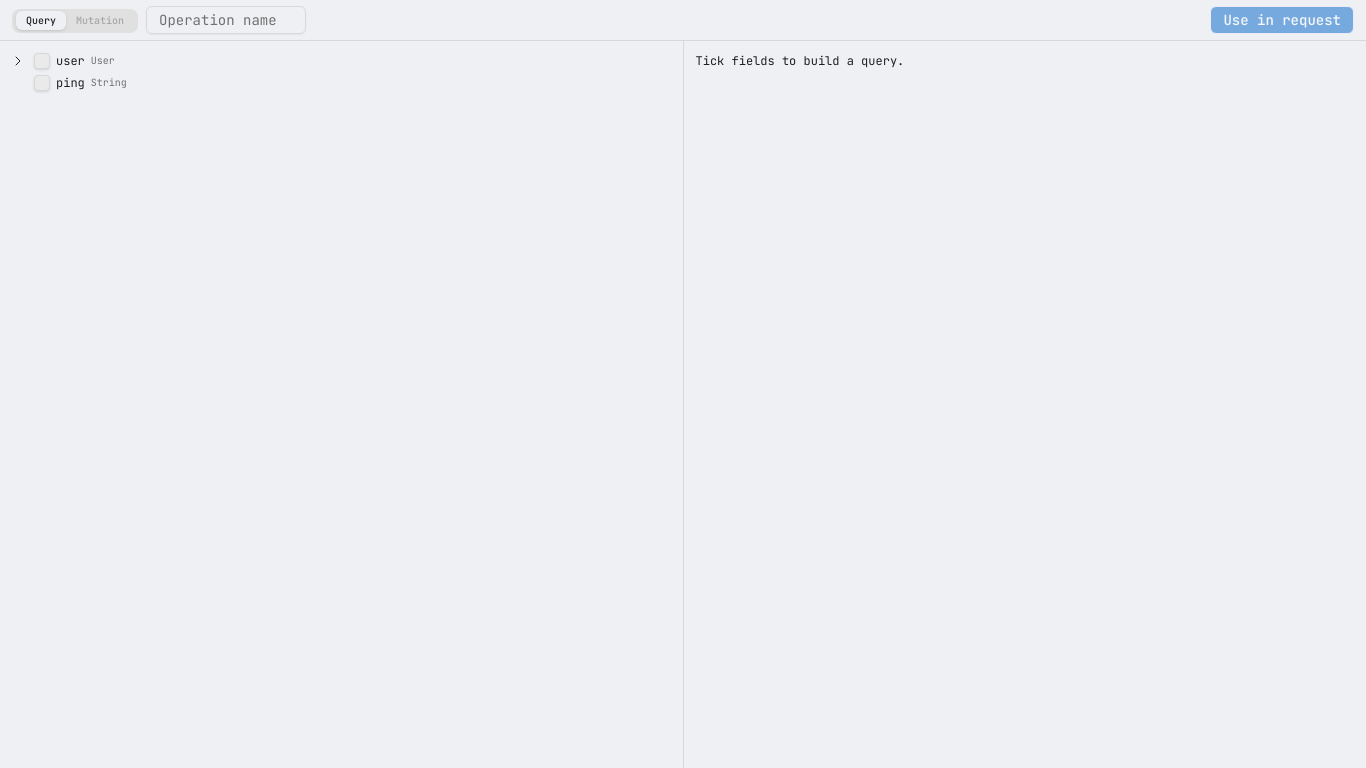
Scenario: GraphQlQueryBuilder › previews the query for the ticked fields
Click the checkbox named "ping": (42, 83) [34,75,50,91]
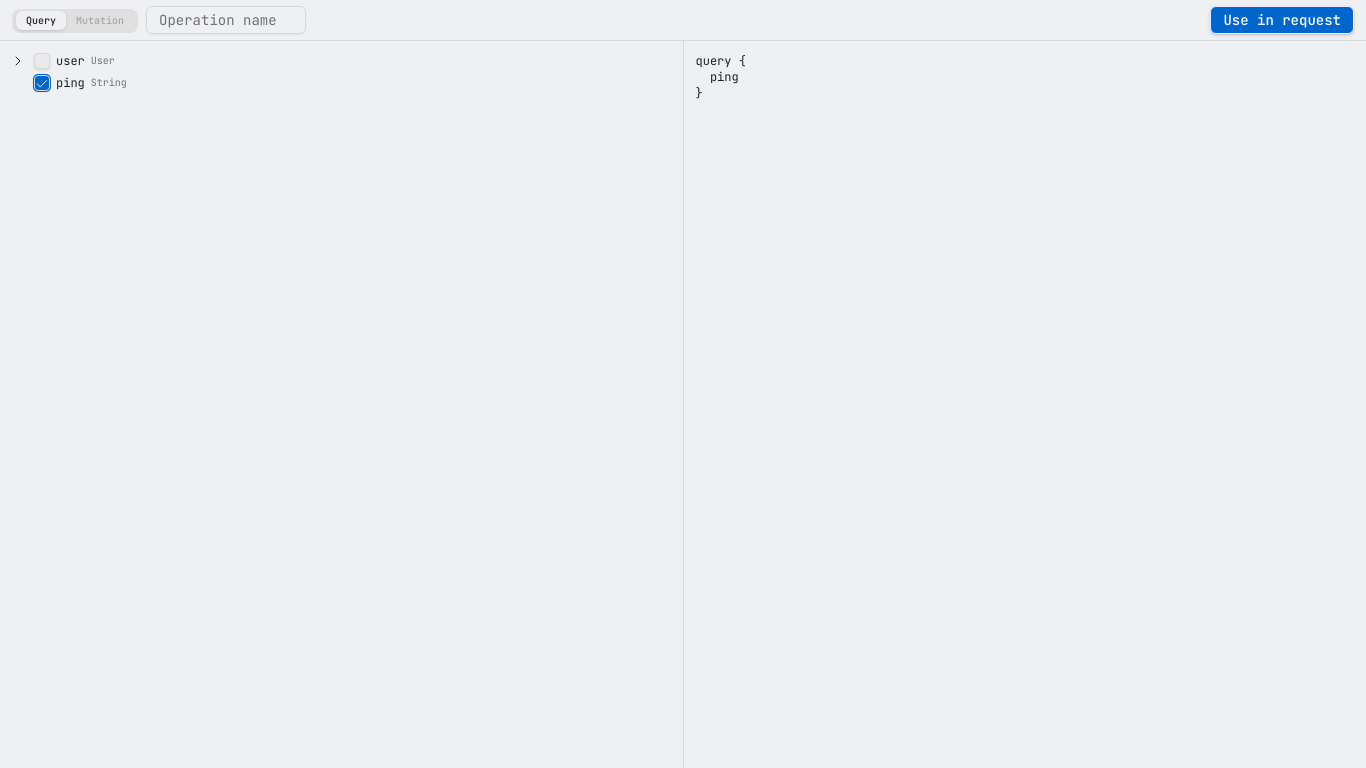
Result: the text with test id "builder-preview" shows "ping" at [696,53,746,101]
